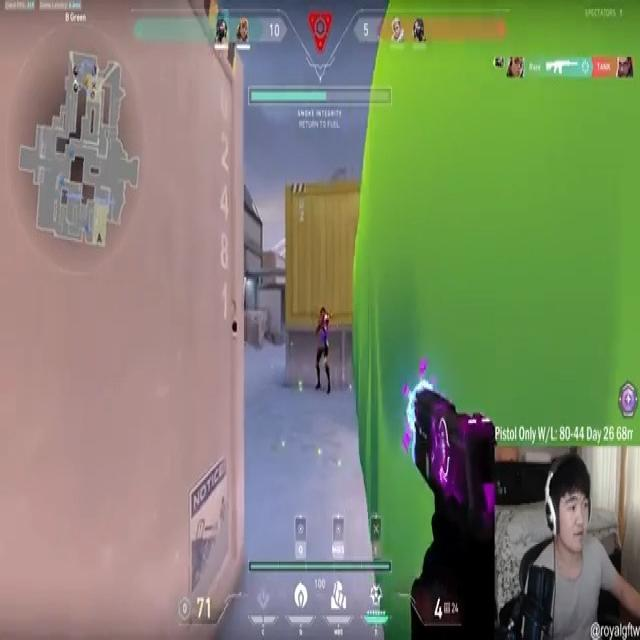enemy: (314, 303, 332, 396)
